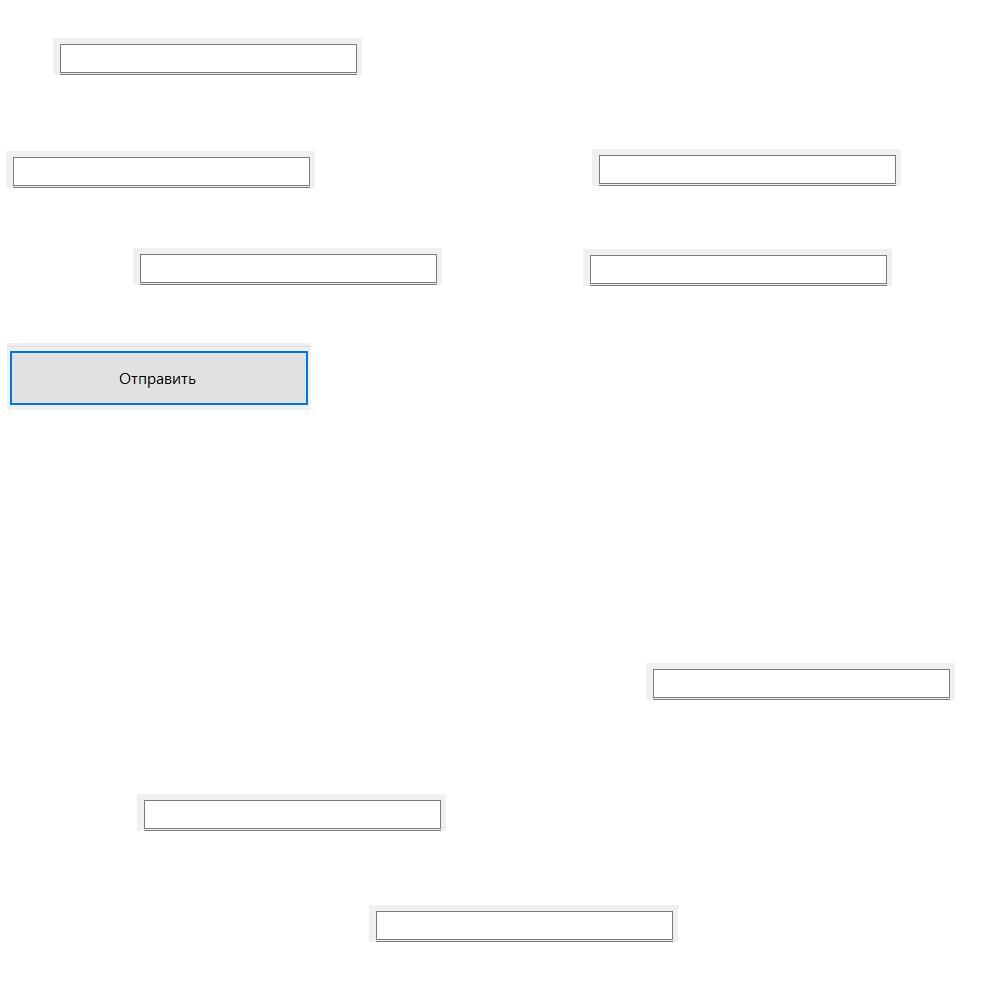Button: (7, 343, 311, 410)
EditText-: (133, 248, 442, 285), (6, 151, 315, 188), (53, 38, 362, 75), (137, 794, 446, 831), (583, 249, 892, 286), (646, 663, 955, 700), (592, 149, 901, 186), (369, 905, 678, 942)
